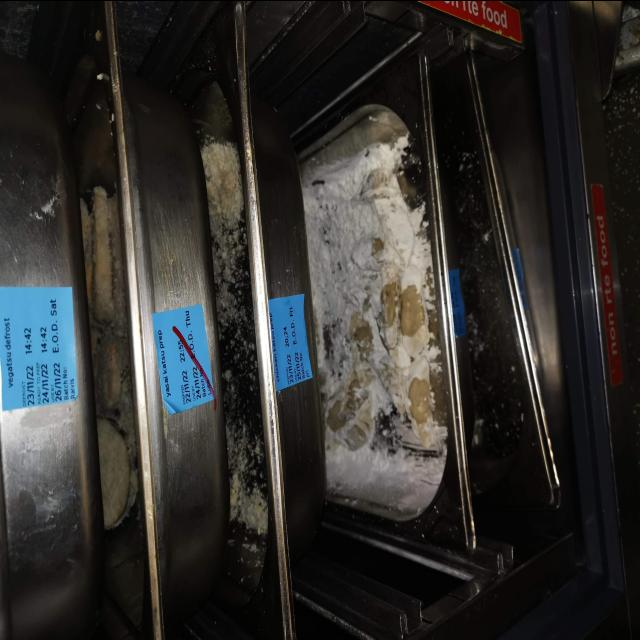product-labels: (0, 283, 79, 408), (151, 302, 216, 414), (267, 294, 313, 388)
